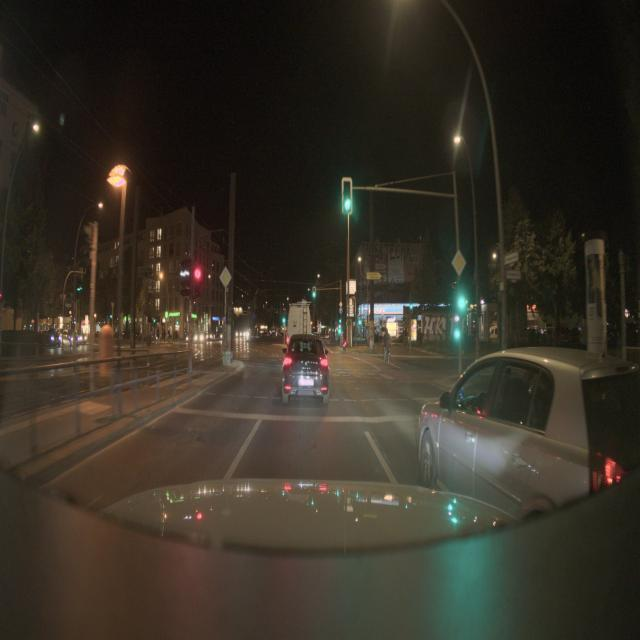green_light: (338, 176, 356, 218)
red_light: (191, 264, 204, 301)
